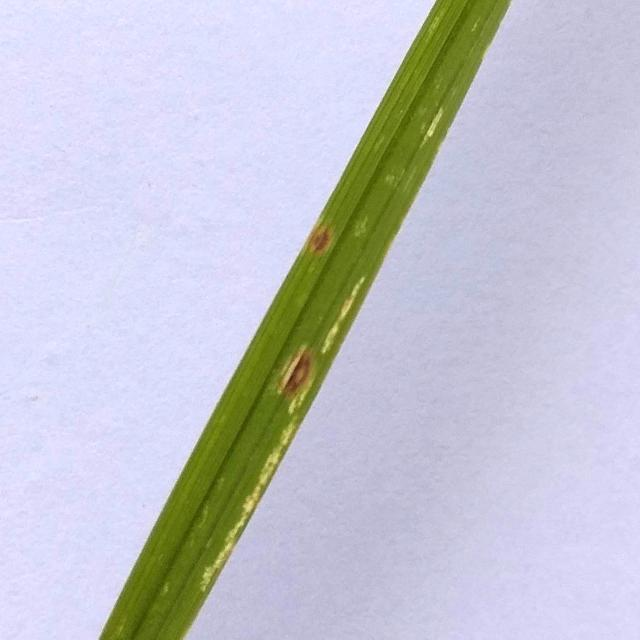Blast: (282, 350, 314, 392), (313, 228, 332, 255)
